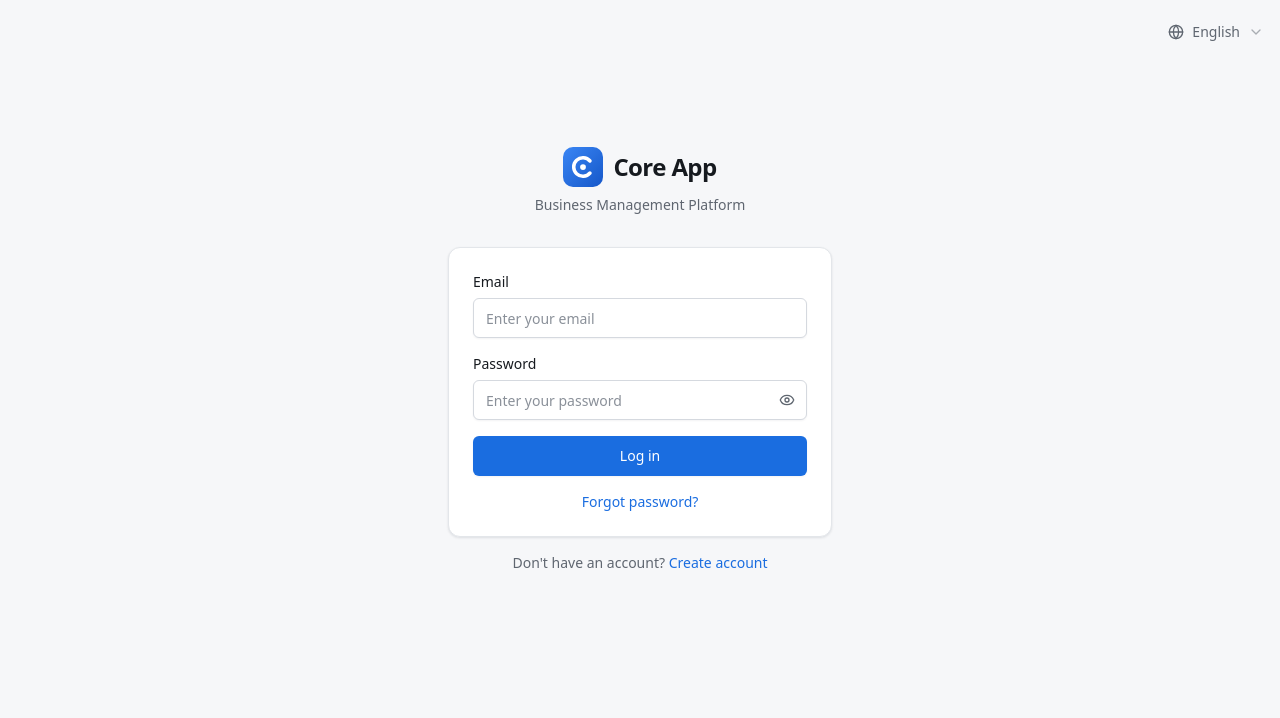
Test: login › does not ask for a business type on the signup page
Earlier steps of the test are not shown.
Click the button "Create account" at (718, 563), box [669,553,768,573]
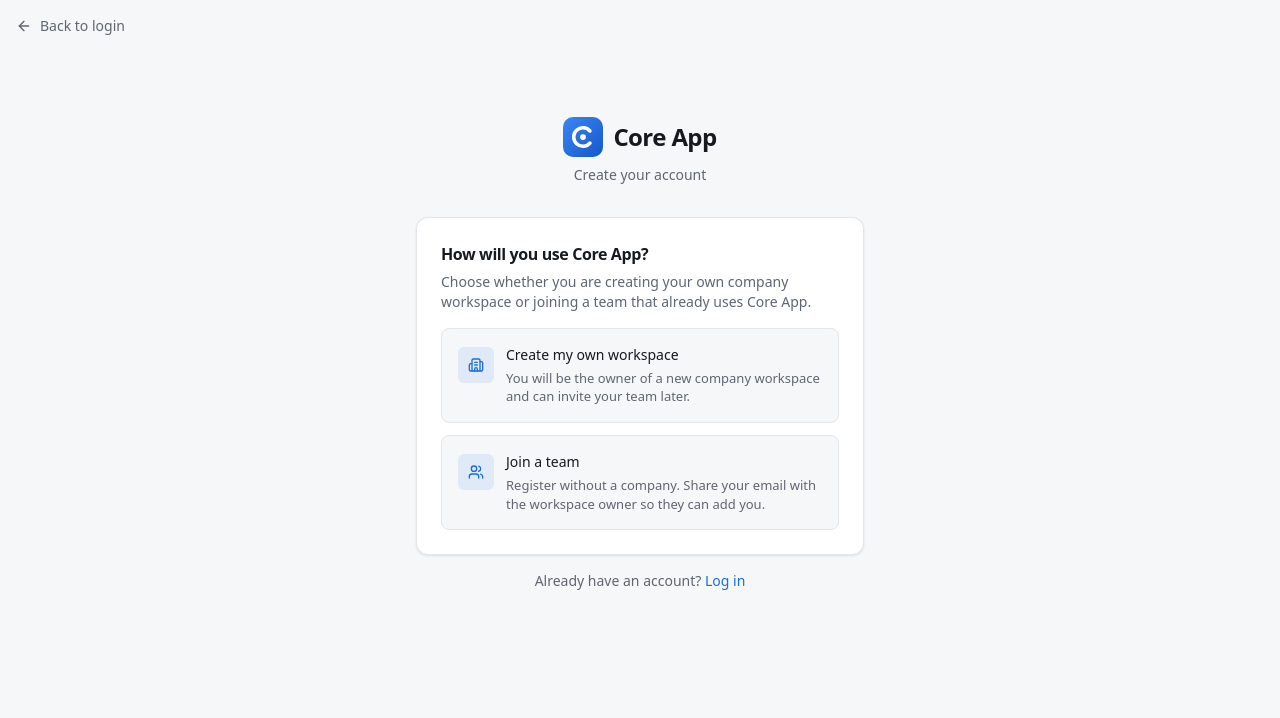
Check: the heading "How will you use Core App?" is shown, box [441,243,648,265]
Click the button "Create my own workspace" at (640, 375), box [441,328,839,423]
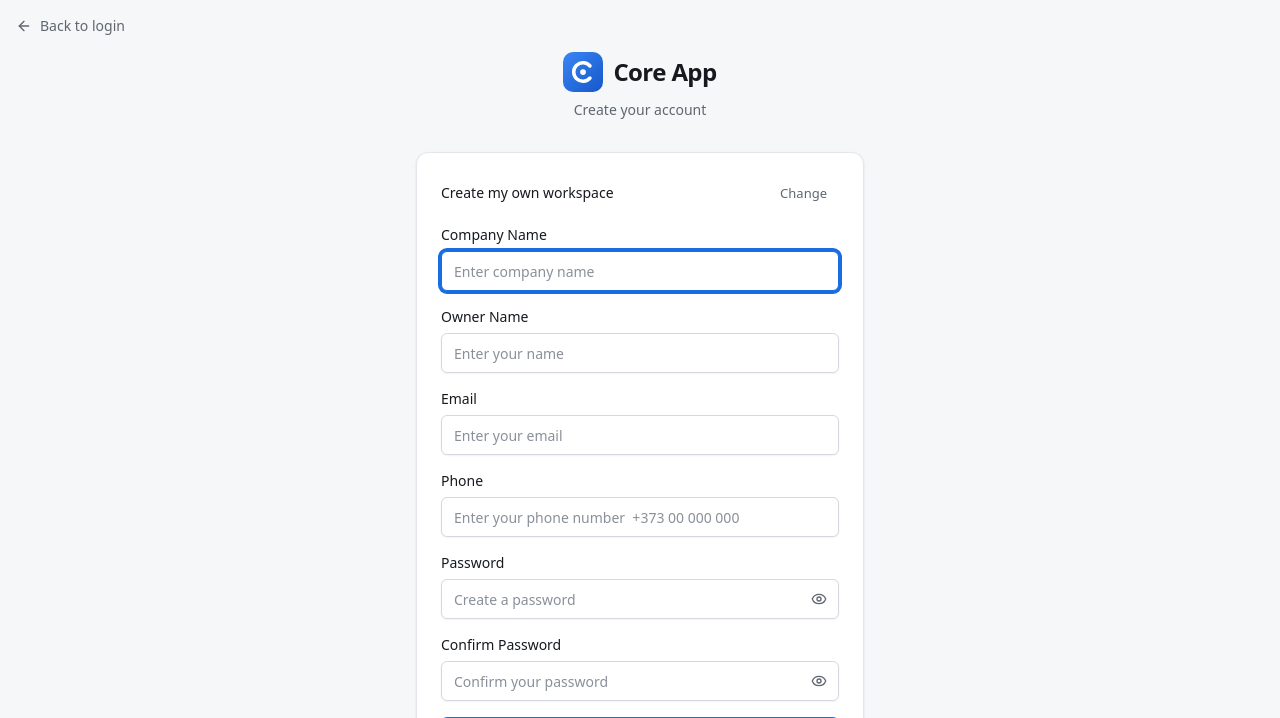
Check: the field labelled "Company Name" is shown, box [441,251,839,291]
